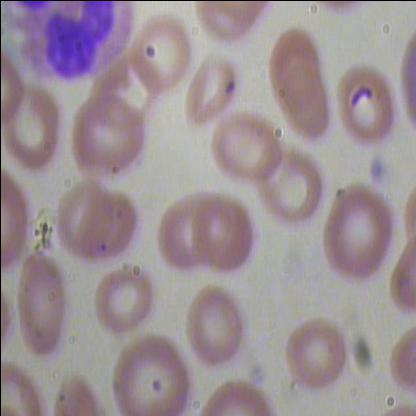RBC: (318, 178, 393, 289), (103, 333, 199, 415), (208, 104, 283, 192), (327, 67, 402, 155), (252, 144, 326, 232), (68, 96, 145, 179), (122, 13, 198, 96), (176, 53, 245, 138), (182, 282, 250, 367), (190, 195, 258, 280), (14, 250, 66, 359), (76, 186, 140, 266), (47, 177, 111, 257), (148, 192, 207, 276), (87, 262, 154, 334), (272, 68, 334, 144), (264, 24, 326, 99), (285, 318, 347, 392)
WBC: (13, 1, 144, 82)
